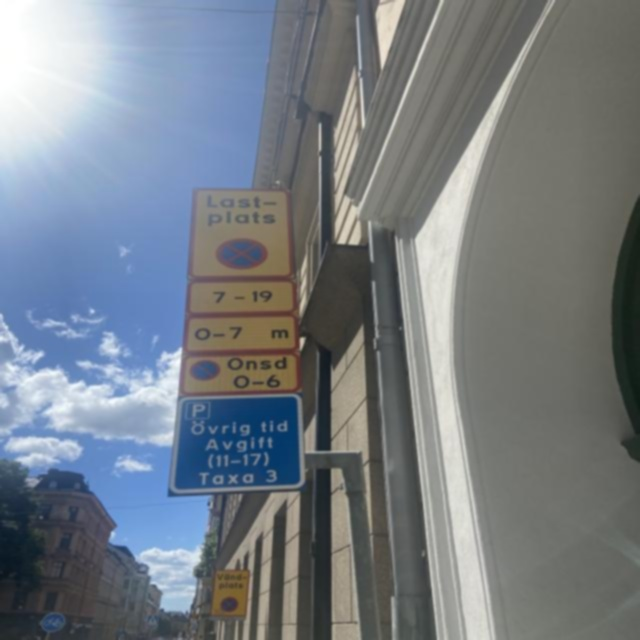lastplats: (185, 188, 291, 279)
